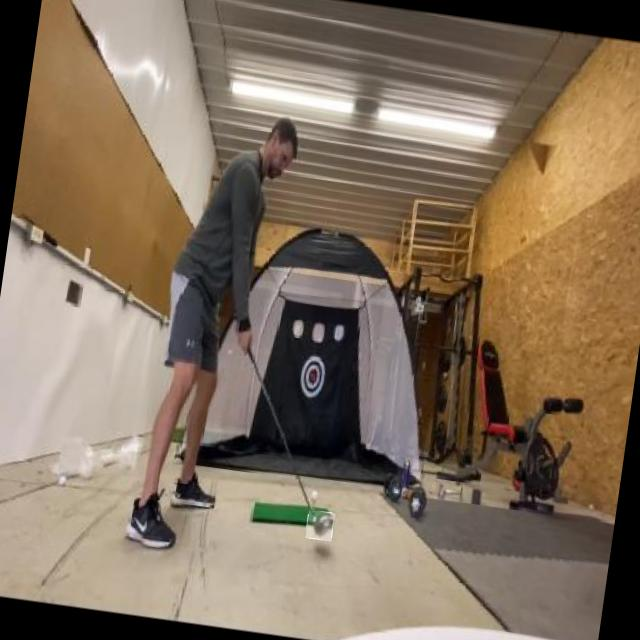club head: (306, 510, 336, 542)
